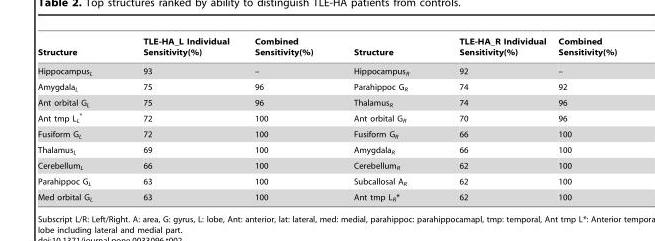table: (37, 36, 616, 201)
table column: (117, 36, 241, 201), (433, 36, 551, 201), (332, 36, 433, 201), (241, 36, 332, 201), (37, 36, 117, 201), (551, 36, 616, 201)
table column header: (37, 36, 616, 61)
table row: (37, 36, 616, 61), (37, 61, 616, 79), (37, 109, 616, 126), (37, 126, 616, 142), (37, 157, 616, 173), (37, 173, 616, 189), (37, 79, 616, 94), (37, 94, 616, 109), (37, 142, 616, 157), (37, 189, 616, 201)
